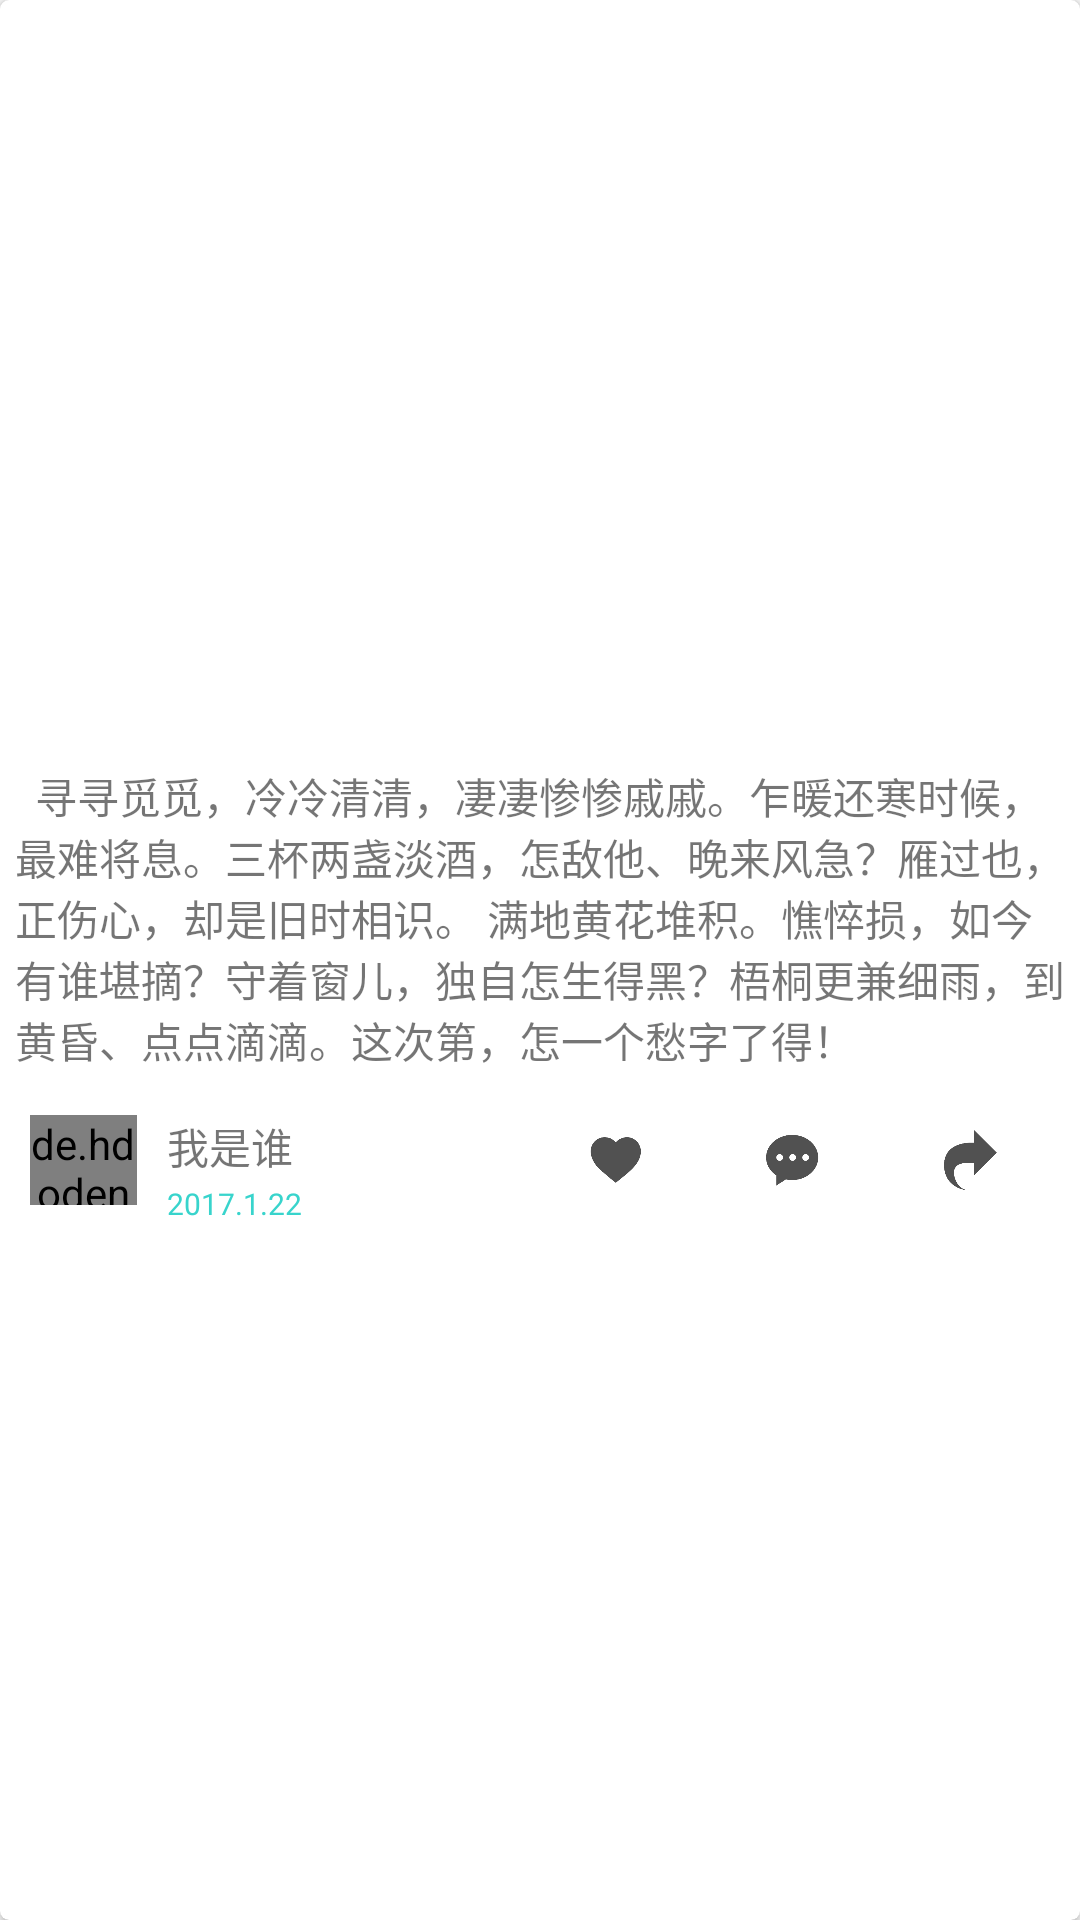

Where icons sit on this 1080 × 1920 app screen, as bbox=(x1, y1, x2, y2):
love: bbox=(591, 1137, 641, 1183)
share: bbox=(944, 1130, 997, 1190)
speak: bbox=(766, 1135, 818, 1186)
